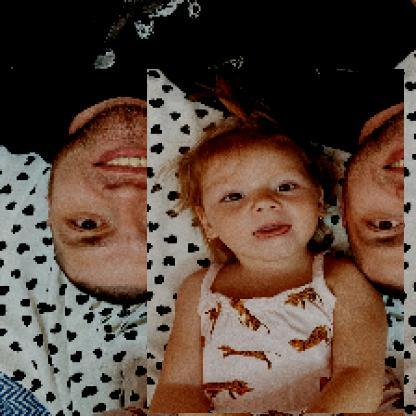child: (148, 70, 406, 415)
